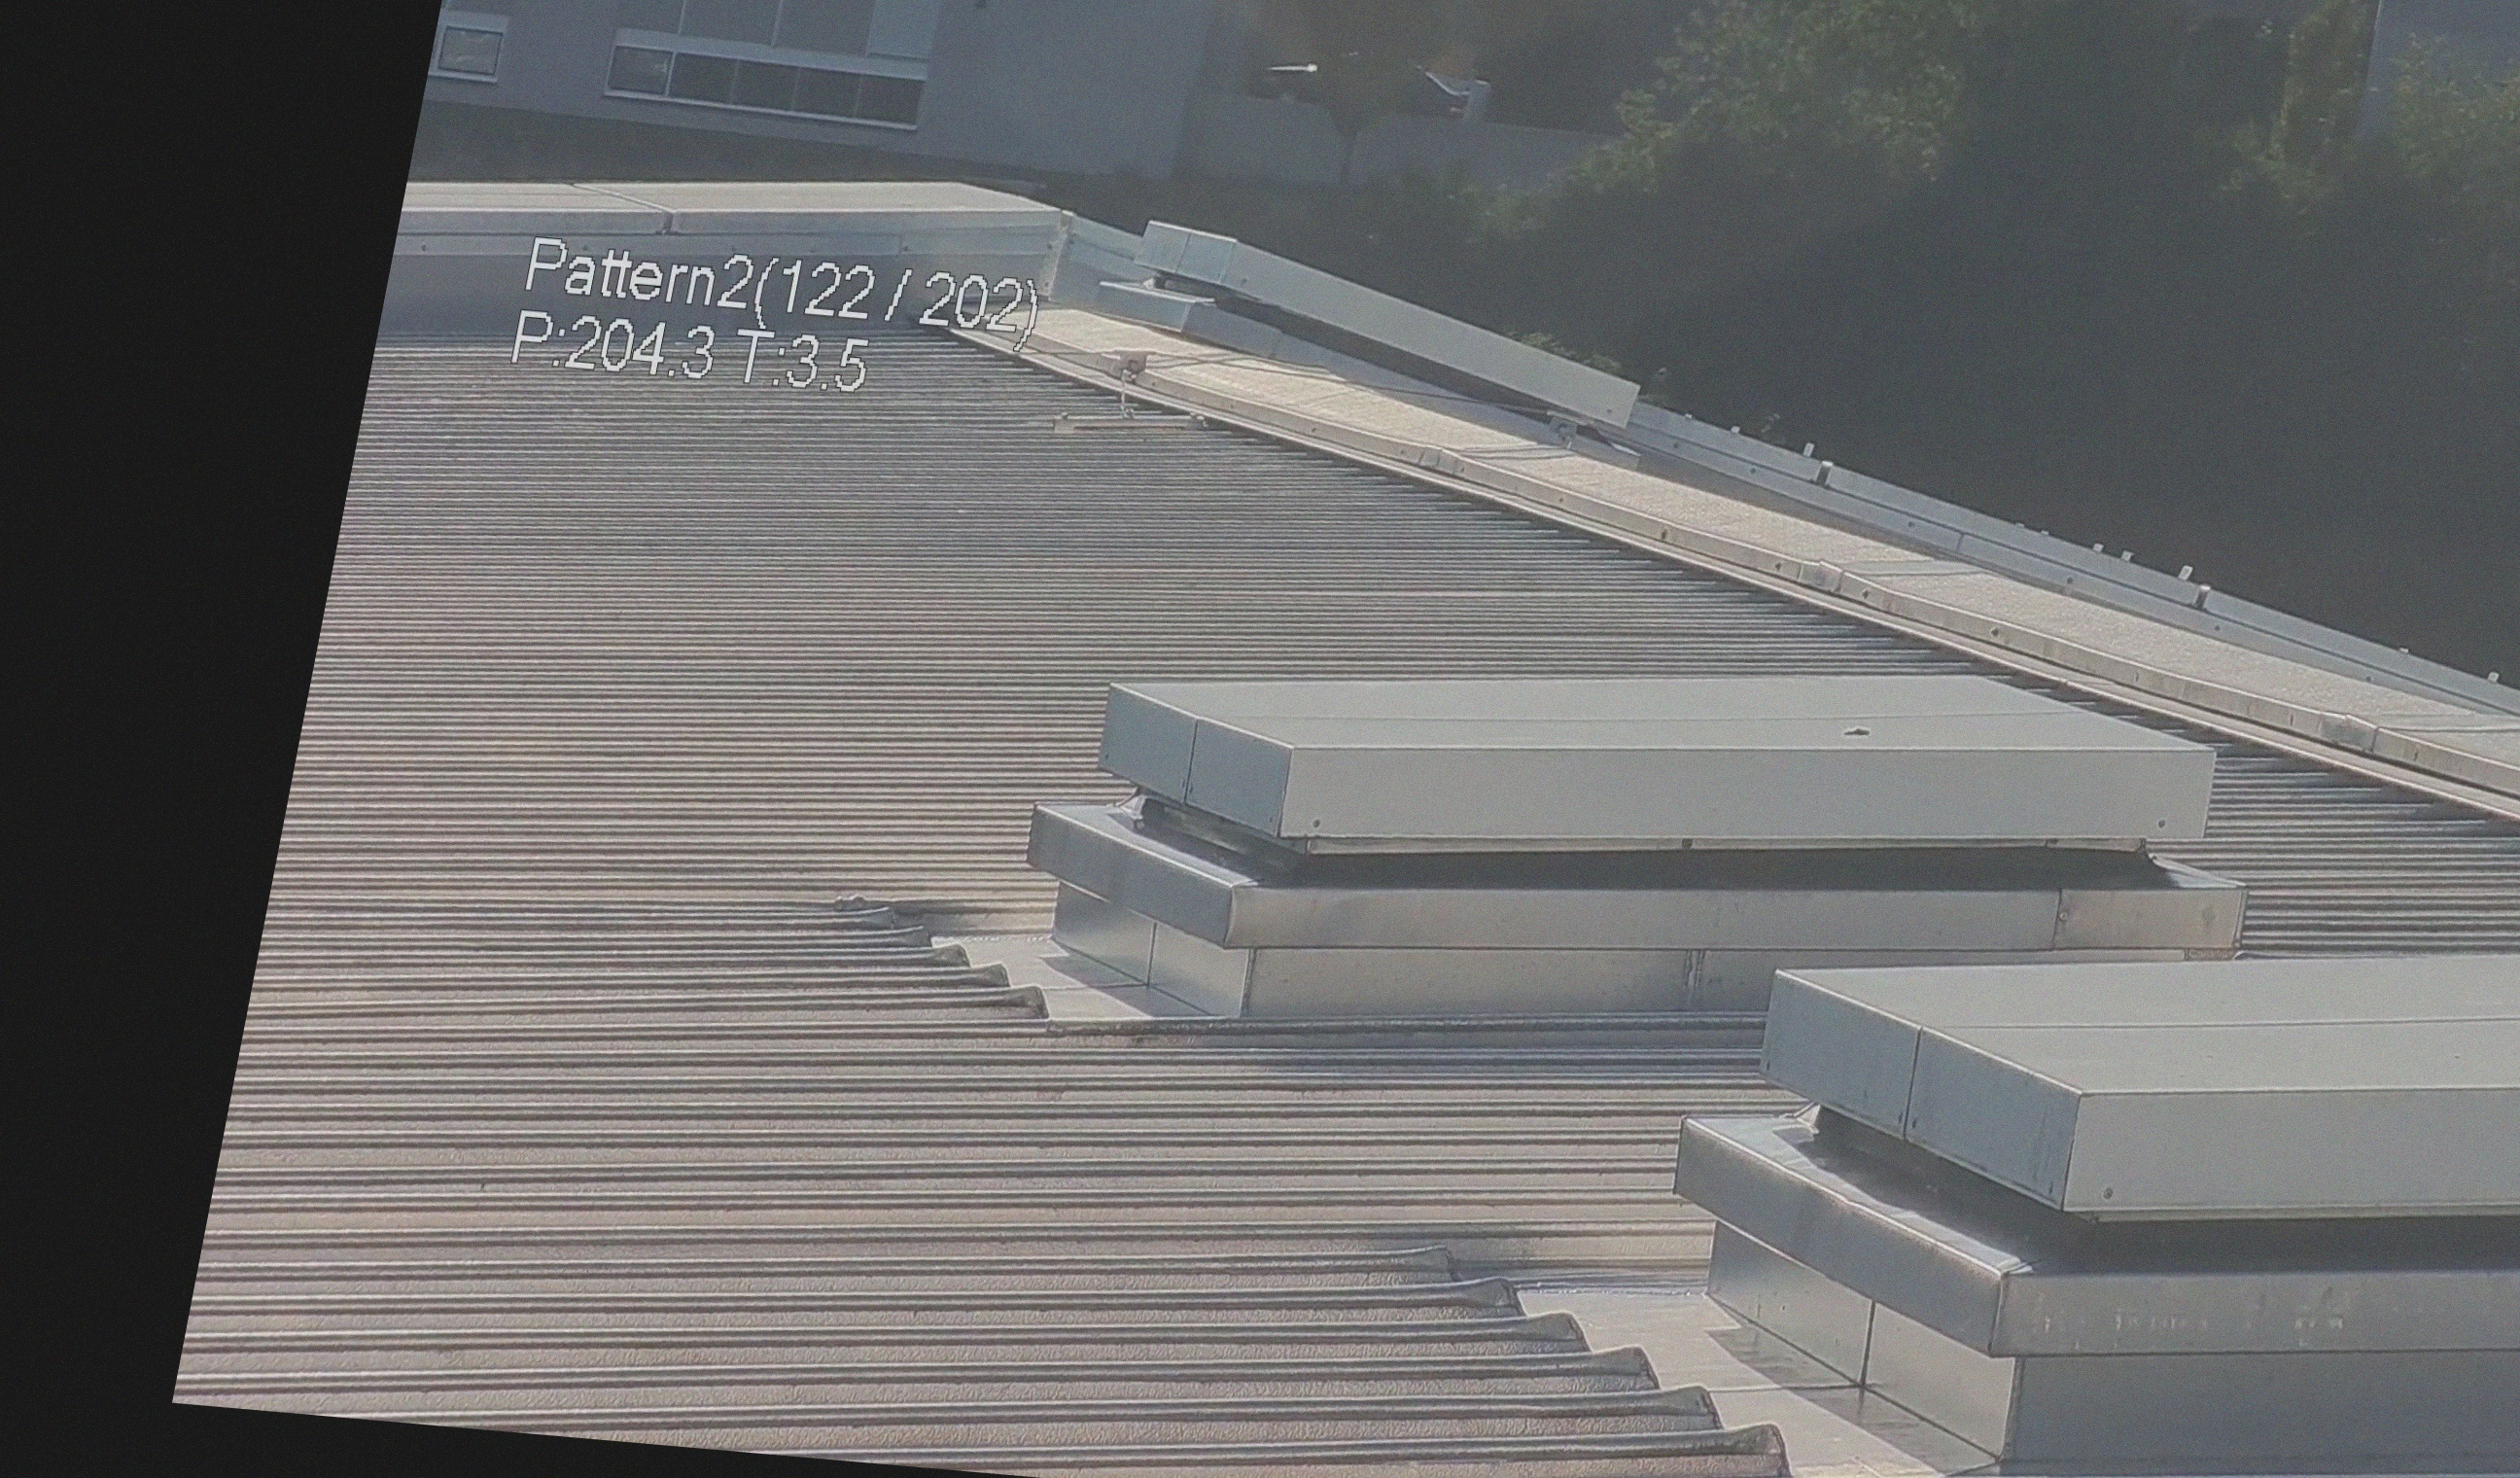Other: (1249, 14, 1488, 162)
